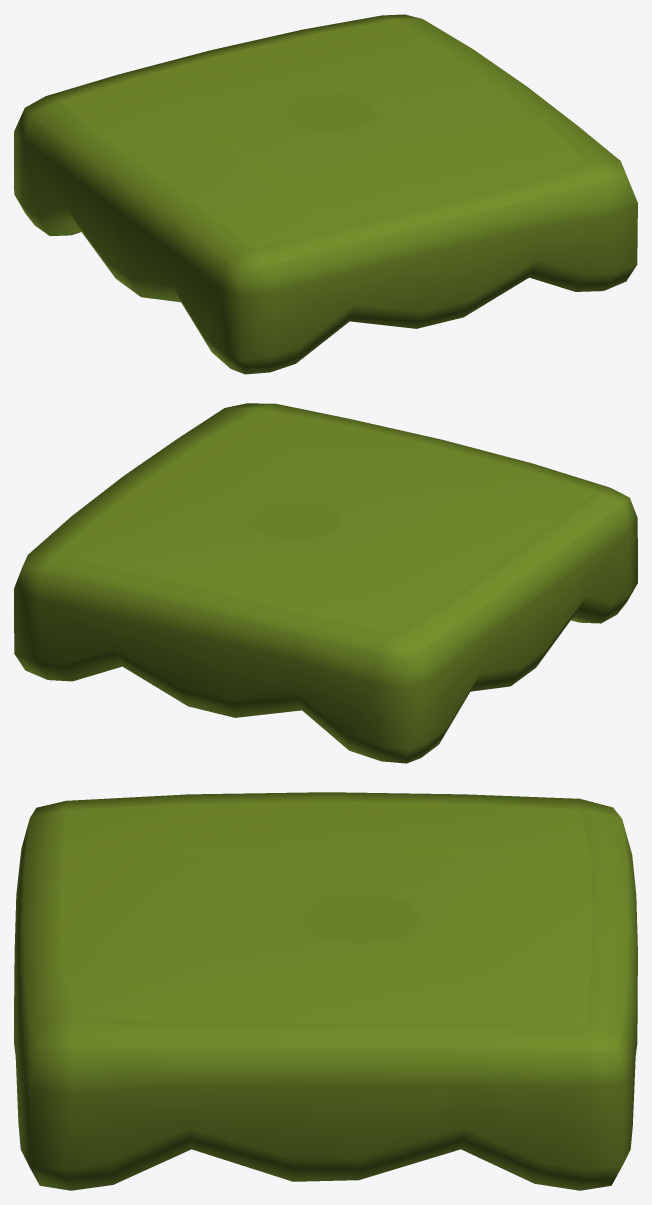
File: grasstop1_deco_LOD_group.fbx
3 views of the same model, one above another, from view 1: azimuth 30°, elevation 25°; view 2: azimuth 150°, elevation 25°; view 3: azimuth 270°, elevation 25° (orthographic). The views are drawn at different scales.
Visible parts, largest first — view 1: grasstop1_deco_LOD0; view 2: grasstop1_deco_LOD0; view 3: grasstop1_deco_LOD0.
Boxes of the visible parts, x1=… form: grasstop1_deco_LOD0: x1=14, y1=14, x2=637, y2=374; grasstop1_deco_LOD0: x1=14, y1=403, x2=637, y2=763; grasstop1_deco_LOD0: x1=14, y1=792, x2=637, y2=1190.
Size of what is drawn, in the model's own units: 111 by 33.3 by 111.
1 material, 1 textured.
